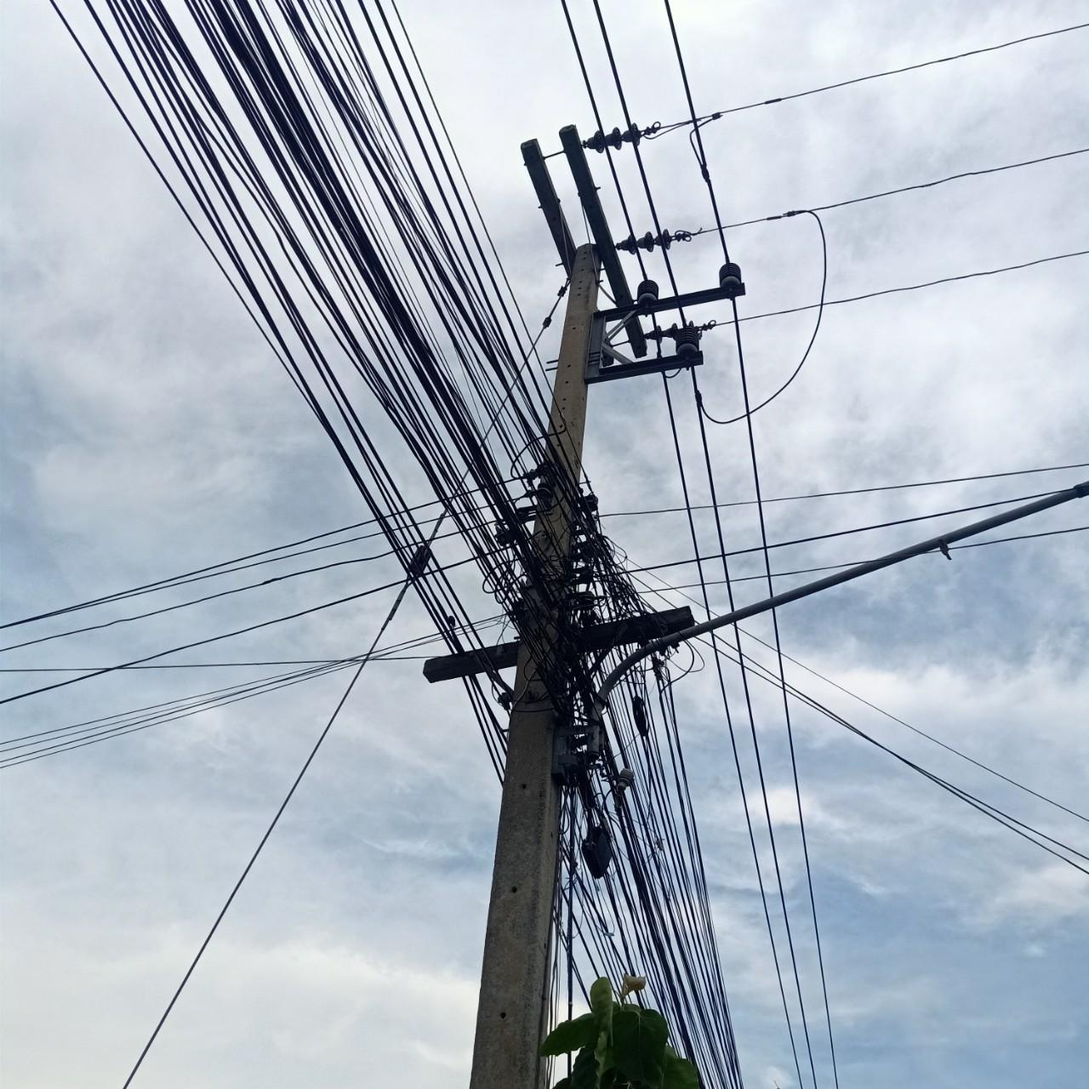wires-only: (0, 0, 531, 780), (582, 709, 692, 956)
